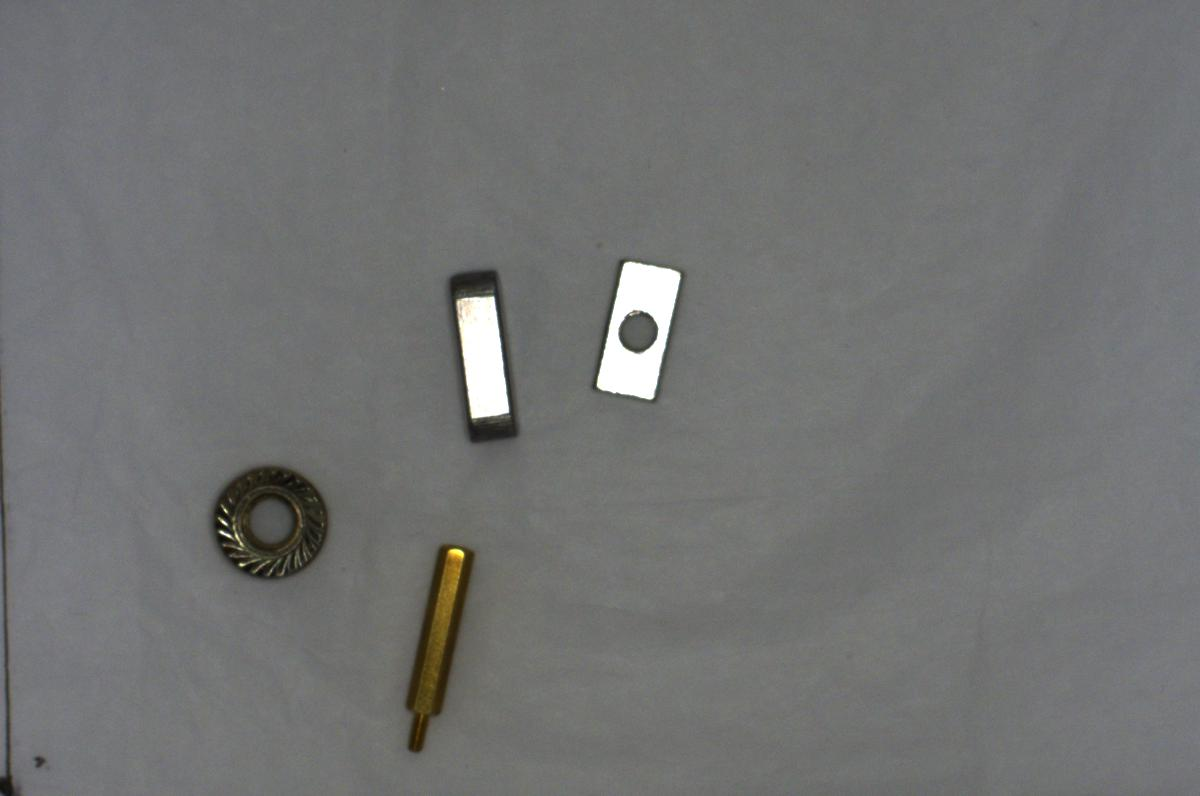Flange nut: (205, 460, 339, 589)
Hexagon pillar: (393, 538, 475, 763)
Keybar: (439, 263, 525, 456)
Rectangular nut: (584, 253, 685, 402)
